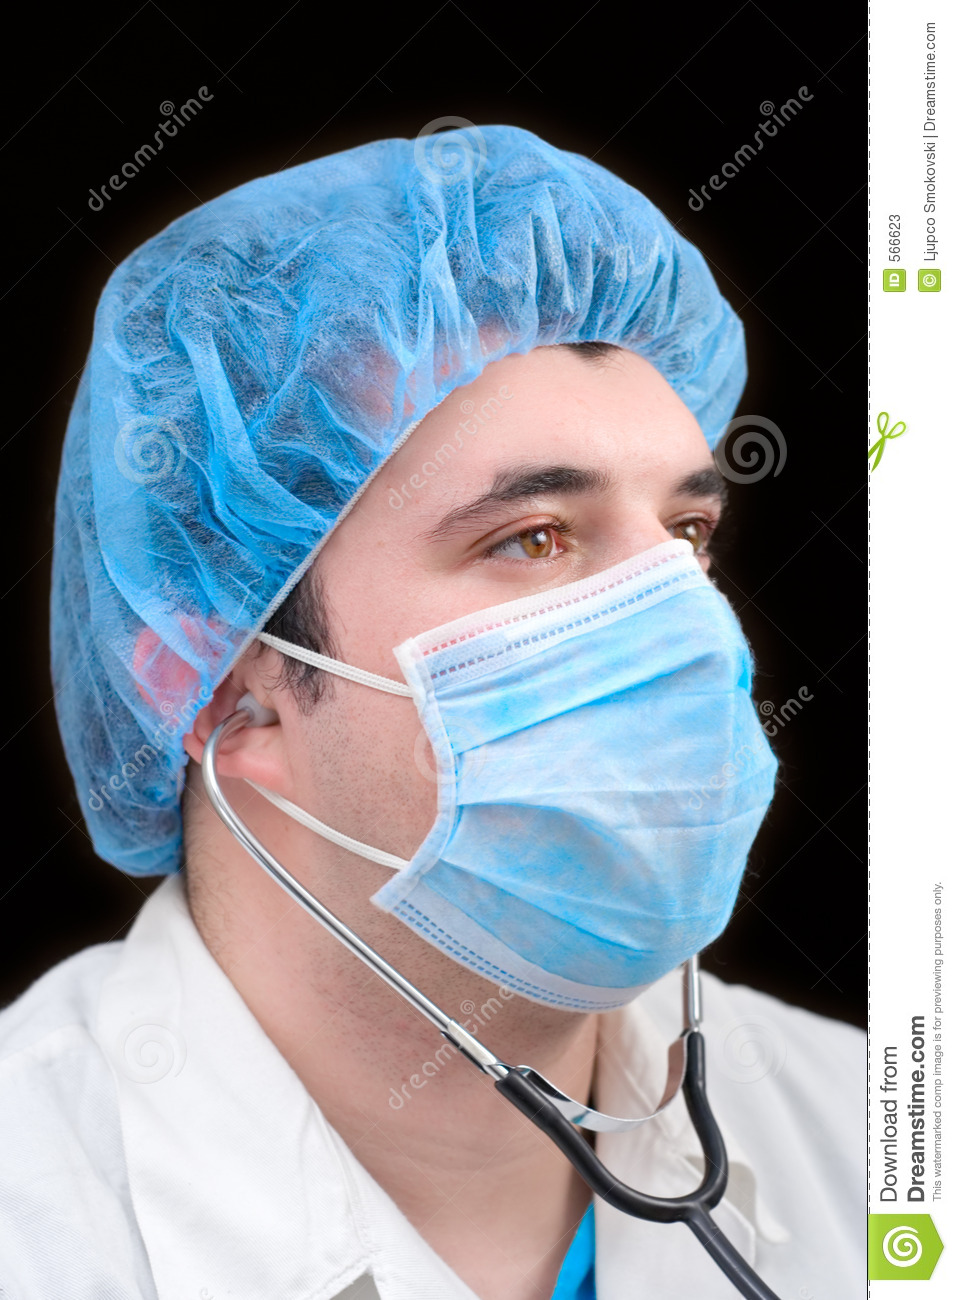mask: (396, 555, 776, 1009)
